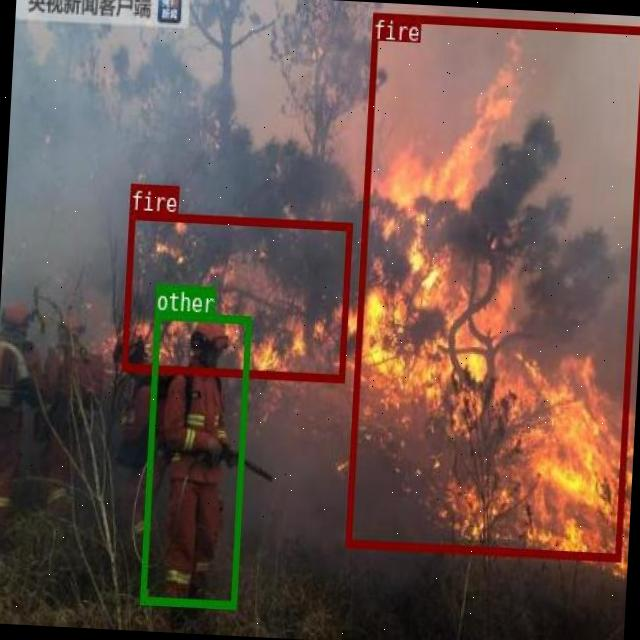fire: (344, 11, 640, 561), (121, 210, 352, 380)
